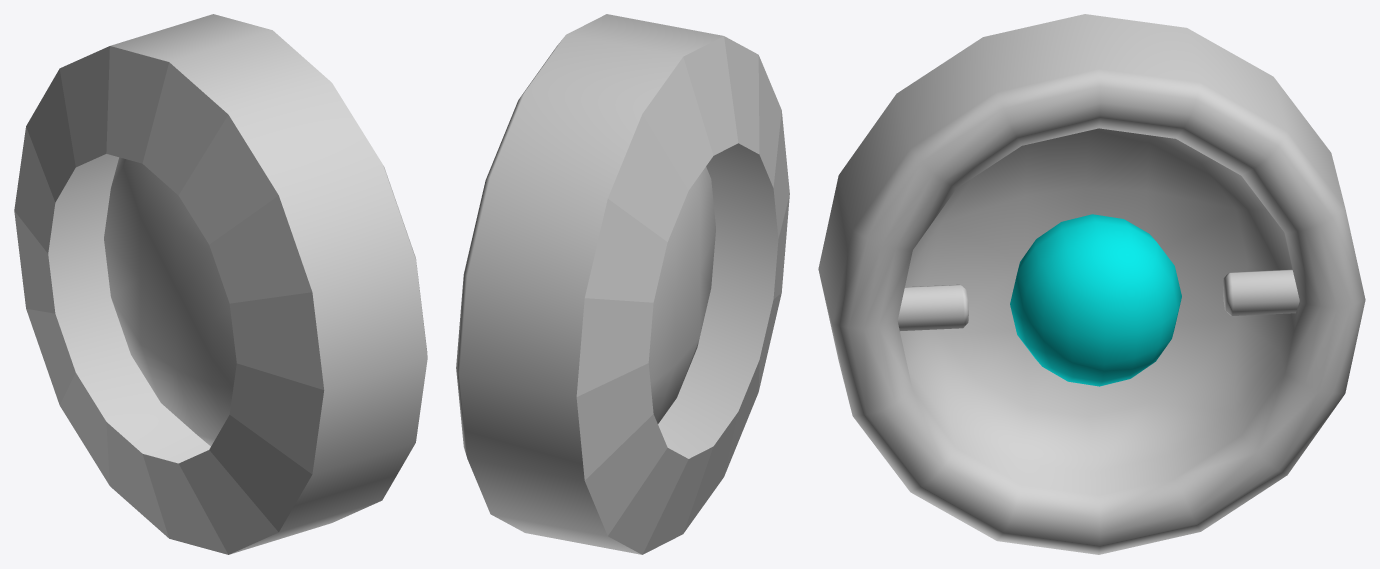
The model's file is SM_Button.fbx.
3 renders of one model, left to right at view 1: azimuth 30°, elevation 25°; view 2: azimuth 150°, elevation 25°; view 3: azimuth 270°, elevation 25°, orthographic.
Visible parts, largest first — view 1: Button; view 2: Button; view 3: Button.
Boxes of the visible parts, x1=… form: Button: x1=14, y1=14, x2=427, y2=554; Button: x1=456, y1=14, x2=789, y2=554; Button: x1=818, y1=14, x2=1365, y2=554.
Size of the model in its own units: 117 by 262 by 268.
